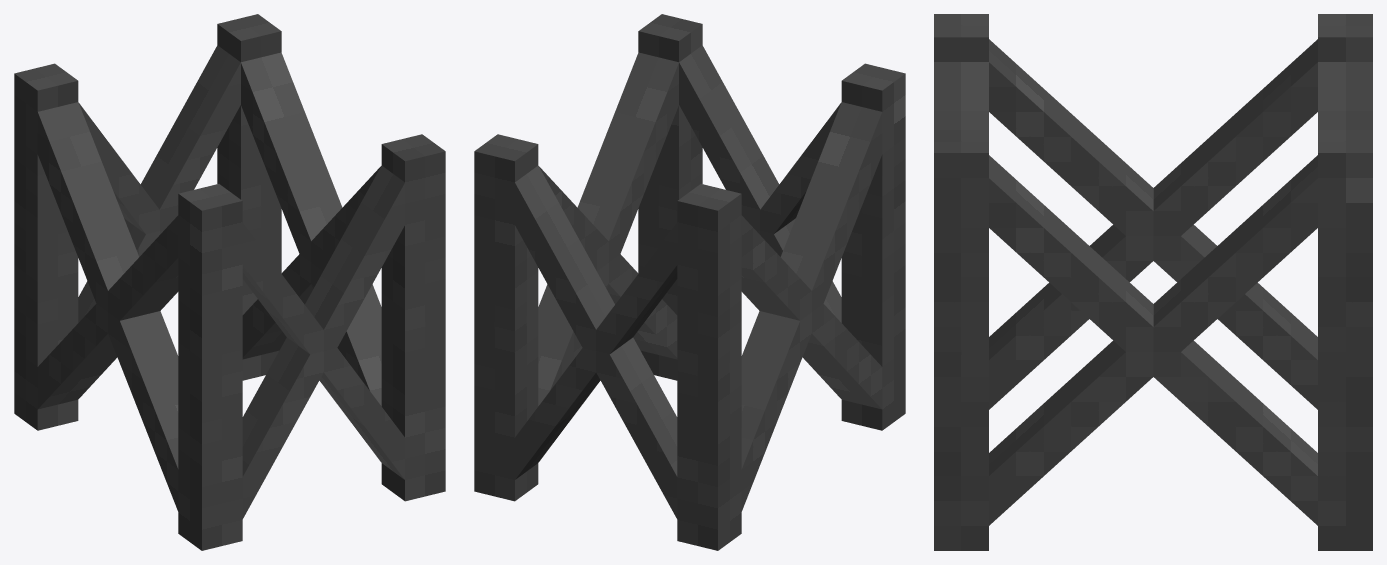
File: steel_scaffold.obj
3 views of the same model, side by side, from view 1: azimuth 30°, elevation 25°; view 2: azimuth 150°, elevation 25°; view 3: azimuth 270°, elevation 25° (orthographic). The views are drawn at different scales.
Parts seen in each view (by area): view 1: Scaffold; view 2: Scaffold; view 3: Scaffold.
Boxes of the visible parts, x1,y1,x2,y2 form: Scaffold: [14, 14, 445, 550]; Scaffold: [474, 14, 905, 550]; Scaffold: [934, 14, 1372, 550].
Size of the model in its own units: 0.75 by 1 by 1.
